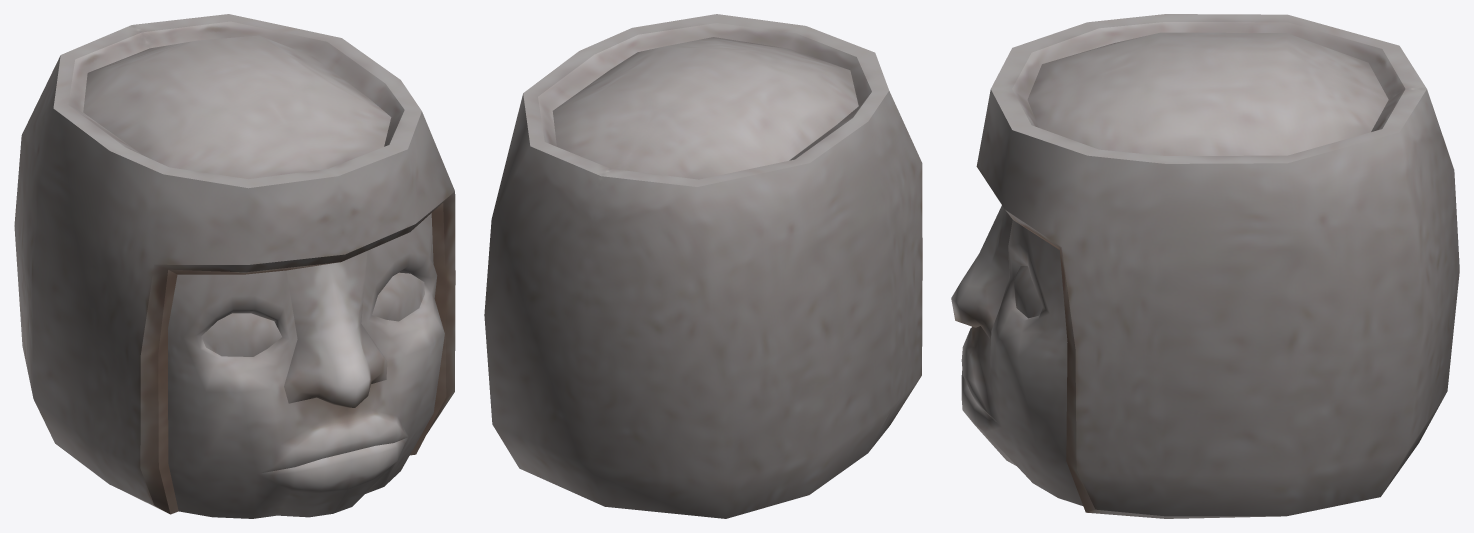
File: HugeFace_HD.fbx
3 renders of one model, left to right at view 1: azimuth 30°, elevation 25°; view 2: azimuth 150°, elevation 25°; view 3: azimuth 270°, elevation 25°, orthographic. The views are drawn at different scales.
Visible parts, largest first — view 1: HugeFace; view 2: HugeFace; view 3: HugeFace.
Part boxes in pixels (bbox=[...]): HugeFace: bbox=[14, 14, 455, 518]; HugeFace: bbox=[484, 14, 922, 518]; HugeFace: bbox=[951, 14, 1459, 518].
Size of the model in its own units: 1.53 by 1.64 by 1.91.
